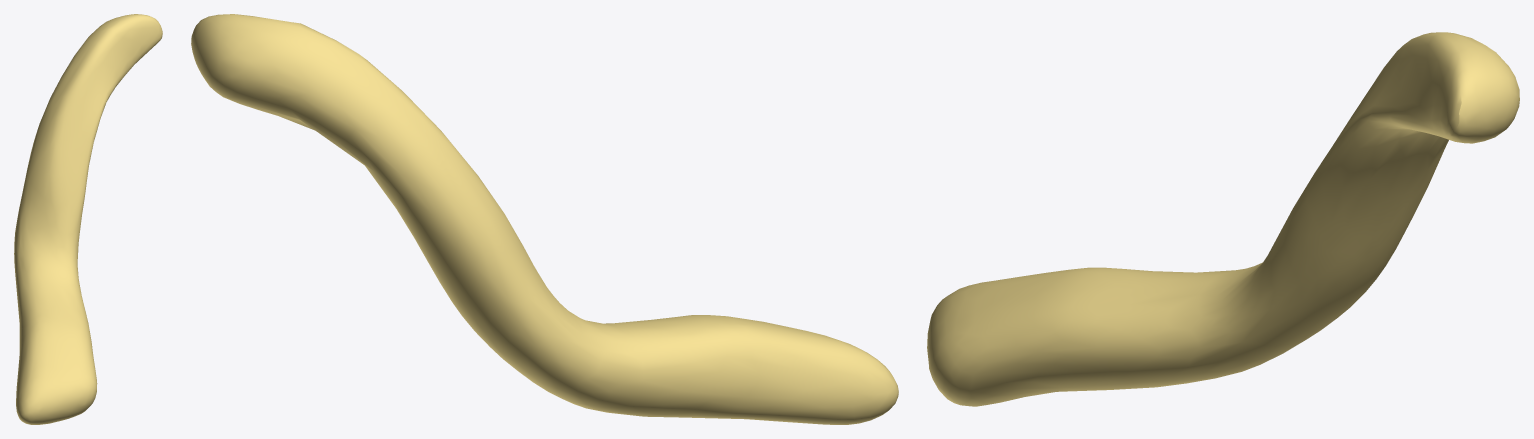
Rendered from fma77627-r_mm3011m.glb.
The picture shows the model from 3 angles, left to right: view 1: azimuth 30°, elevation 25°; view 2: azimuth 150°, elevation 25°; view 3: azimuth 270°, elevation 25°; orthographic projection. The views are drawn at different scales.
Parts seen in each view (by area): view 1: FMA77627-R_MM3011M; view 2: FMA77627-R_MM3011M; view 3: FMA77627-R_MM3011M.
Boxes of the visible parts, box(x1,y1,x2,y2) form: FMA77627-R_MM3011M: box(14, 14, 162, 424); FMA77627-R_MM3011M: box(191, 14, 898, 424); FMA77627-R_MM3011M: box(927, 32, 1519, 406).
Bounding box in the file's own units: 0.00948 × 0.00893 × 0.00907.
